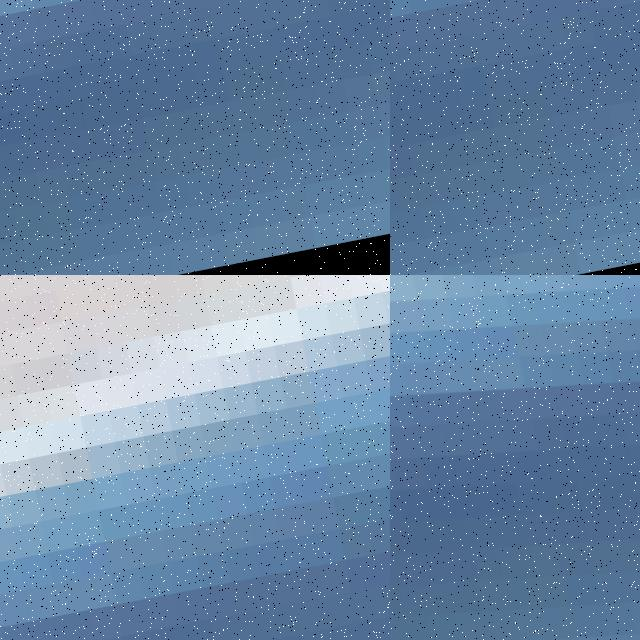drone: (390, 275, 640, 640)
